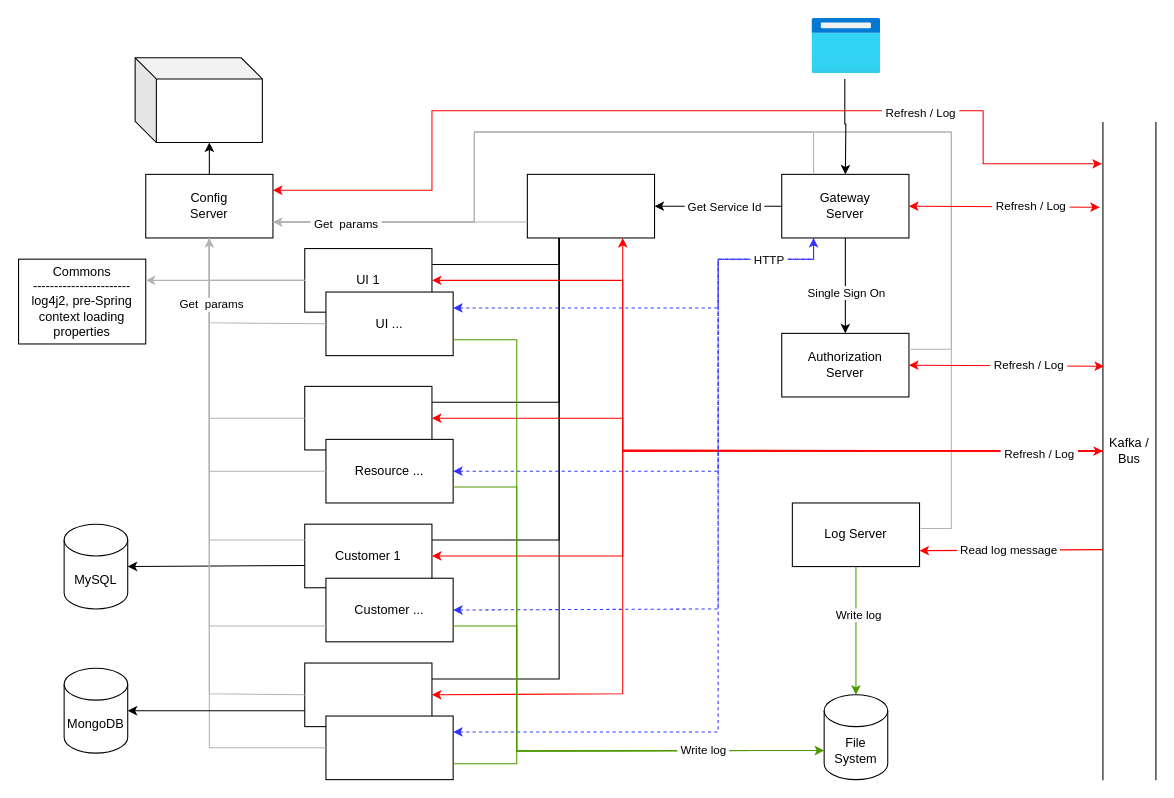
Some shapes in this 1174 by 798 pixel diagram are drawn without their labels. Each missing label, with the centre of its shape:
Eureka Server: pixel 590 205
GitHub: pixel 198 100
http://localhost:8080: pixel 845 45
Order ...: pixel 389 747
Order 1: pixel 368 694
Resource 1: pixel 368 417
